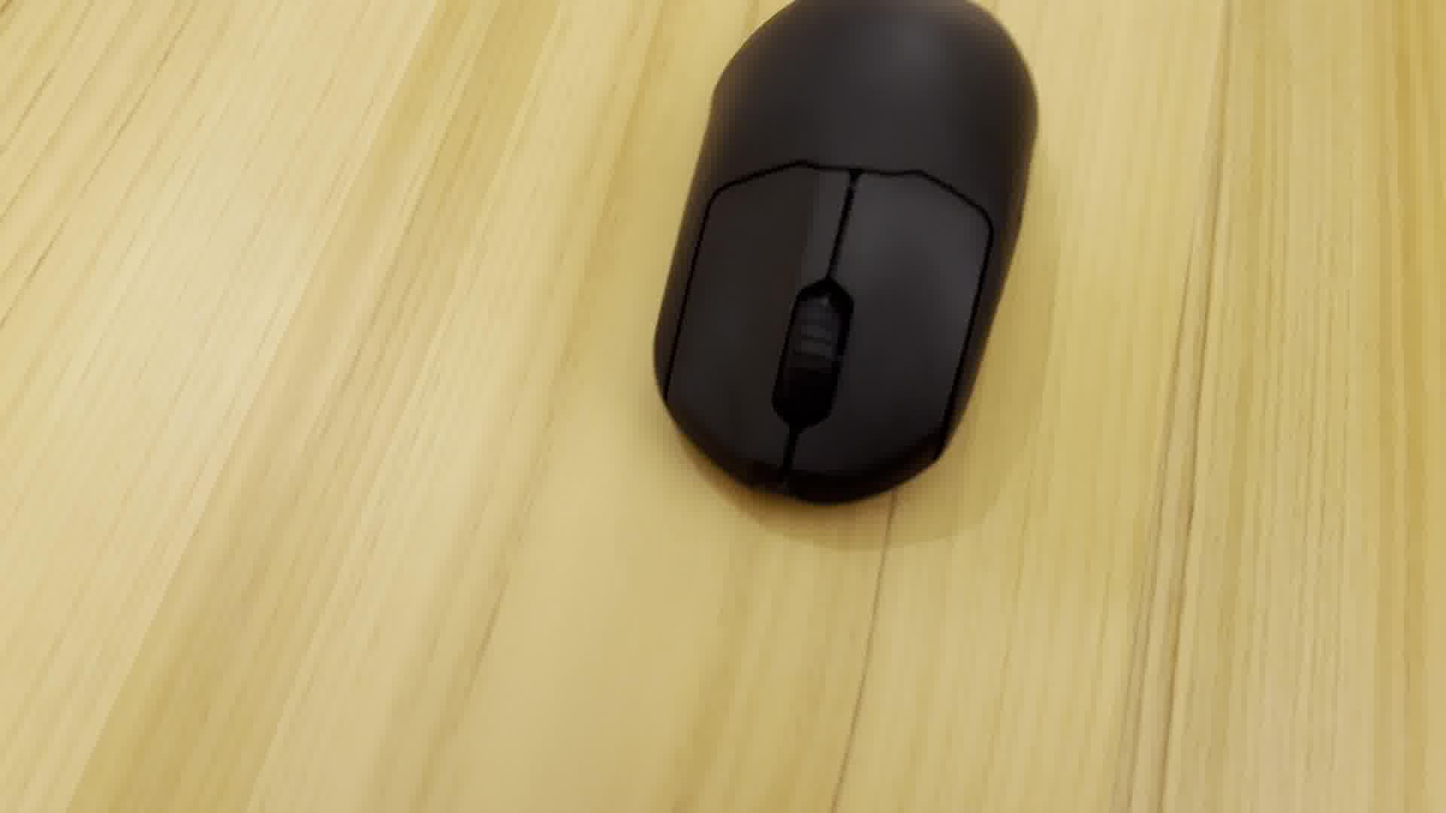mouse: (645, 0, 1053, 518)
